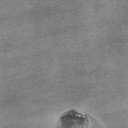iron sheet ash: (58, 109, 90, 128)
